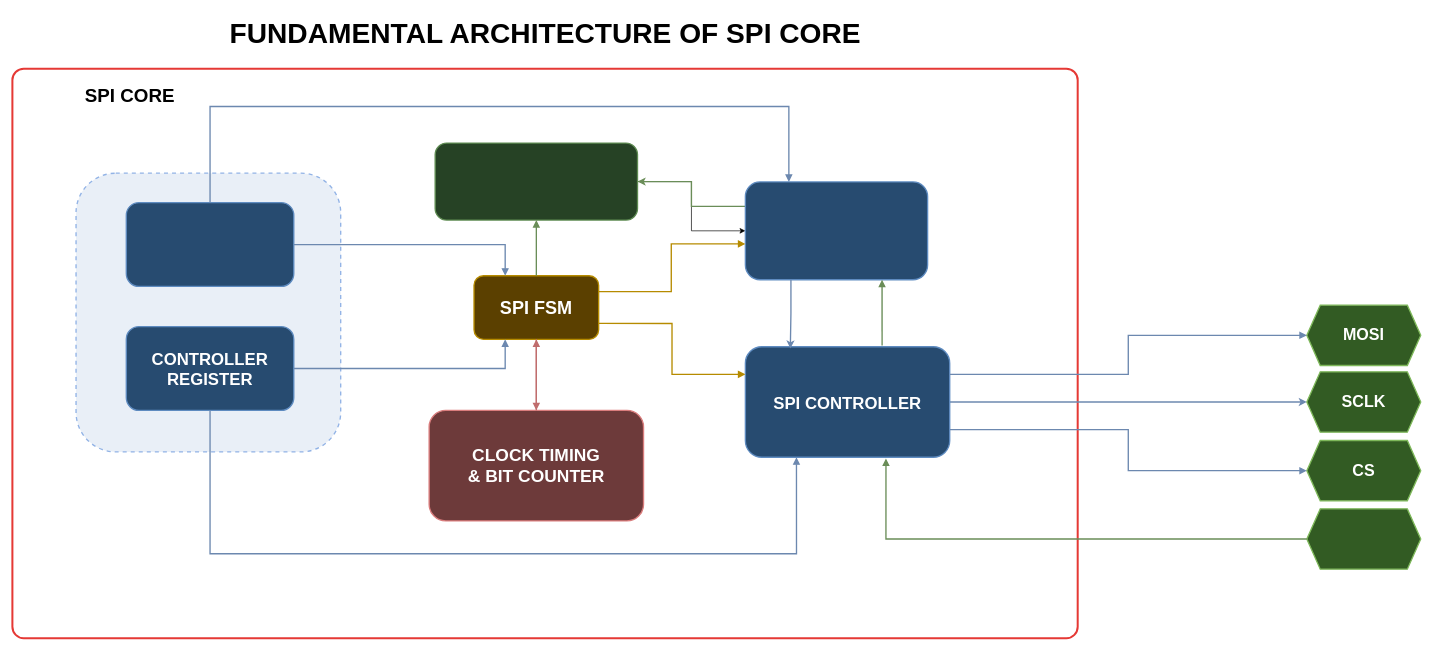
The diagram is 1433 pixels wide and 651 high, and some of its shapes have lost their labels. Here are the shapes that lost their labels. From the top down, the centre of each, then its label:
pixel 536 181: STATUS / RX REGISTER
pixel 209 244: TX DATA REGISTER
pixel 836 230: TX / RX SHIFT LOGIC
pixel 1363 539: MISO
